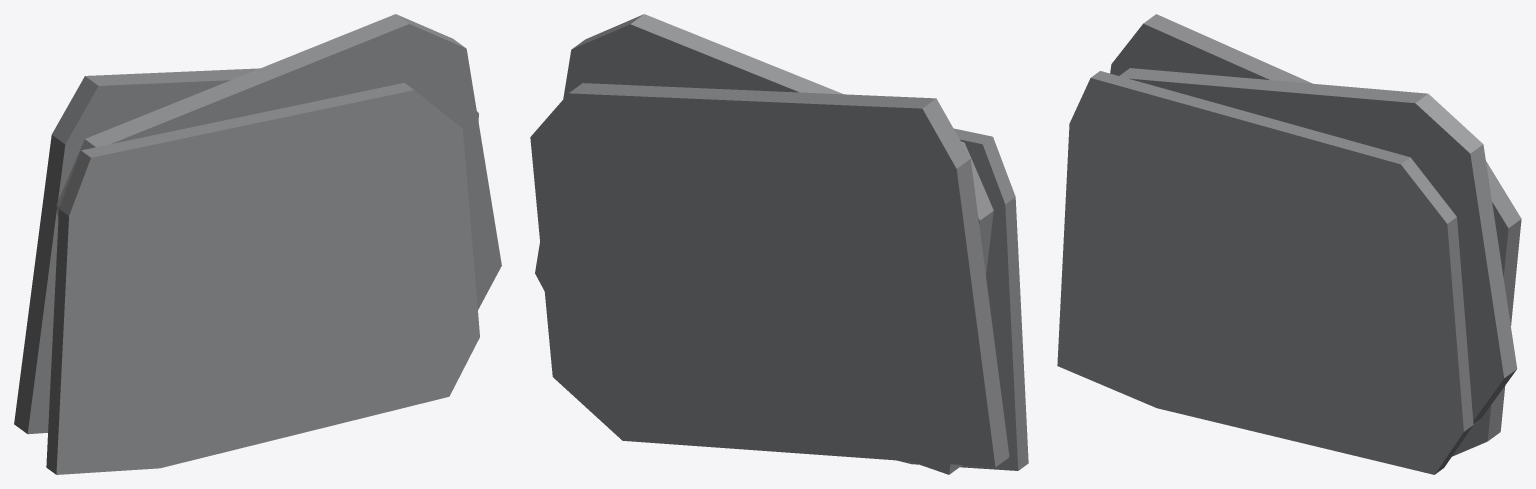
The picture shows the model from 3 angles, left to right: view 1: azimuth 30°, elevation 25°; view 2: azimuth 150°, elevation 25°; view 3: azimuth 330°, elevation 25°; orthographic projection. The views are drawn at different scales.
Size of the model in its own units: 0.5697 by 0.465 by 0.0799.
